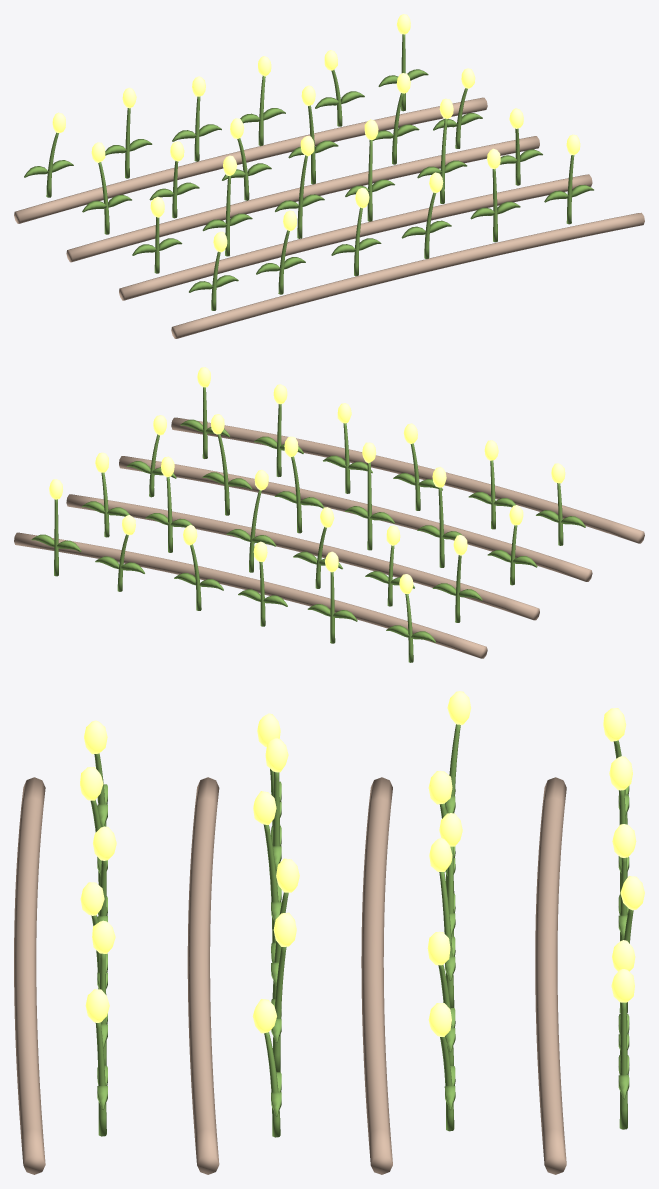
The model's file is jardin_semeur.glb.
3 renders of one model, top to bottom at view 1: azimuth 30°, elevation 25°; view 2: azimuth 150°, elevation 25°; view 3: azimuth 270°, elevation 25°, orthographic. The views are drawn at different scales.
Visible parts, largest first — view 1: bordure, bordure.001, bordure.002, bordure.003; view 2: bordure.003, bordure.002, bordure, bordure.001, tige.009; view 3: bordure.001, bordure.003, bordure, bordure.002, tige.024, tige.006, tige.011, tige.016.
Boxes of the visible parts, x1,y1,x2,y2 form: bordure: (171,212,644,338); bordure.001: (119,174,592,300); bordure.002: (66,136,539,262); bordure.003: (14,97,487,223); bordure.003: (14,532,487,658); bordure.002: (66,494,539,620); bordure: (171,417,644,543); bordure.001: (119,456,592,581); tige.009: (367,462,372,550); bordure.001: (187,777,219,1174); bordure.003: (535,777,566,1174); bordure: (14,777,45,1174); bordure.002: (361,777,392,1174); tige.024: (619,1002,627,1129); tige.006: (95,1022,106,1136); tige.011: (272,947,286,1072); tige.016: (439,872,454,1007).
Bounding box in the file's own units: 7.21 × 1.52 × 5.08.
